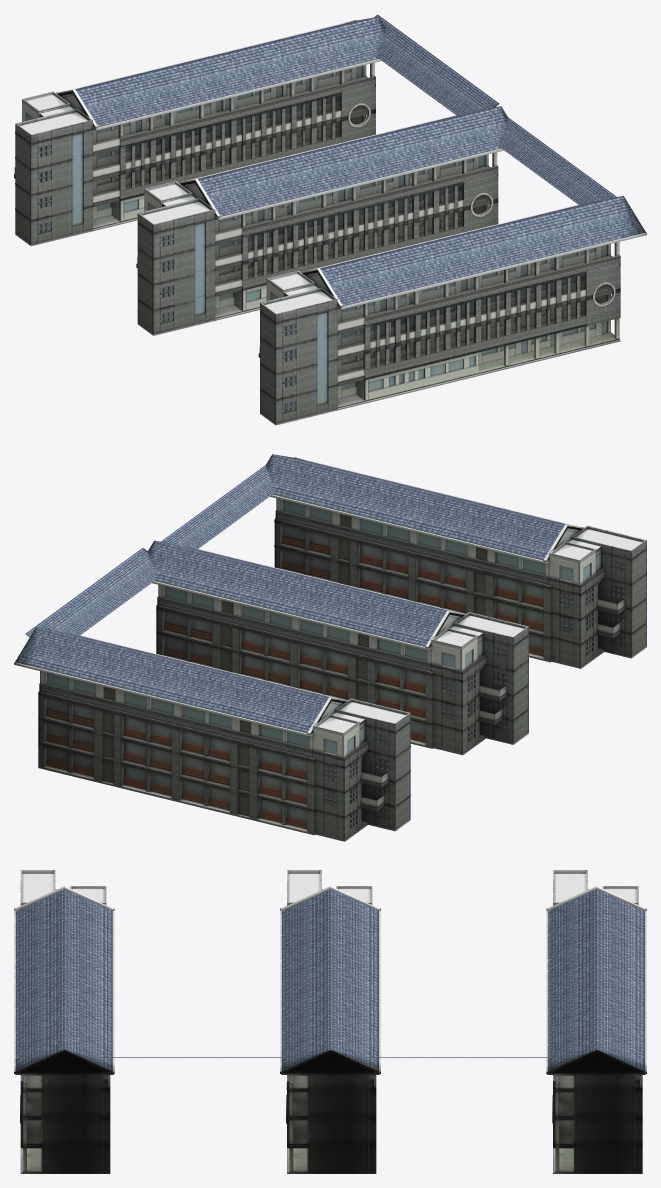
File: teaching_B1T.glb
The picture shows the model from 3 angles, top to bottom: view 1: azimuth 30°, elevation 25°; view 2: azimuth 150°, elevation 25°; view 3: azimuth 270°, elevation 25°; orthographic projection. The views are drawn at different scales.
Parts seen in each view (by area): view 1: 教学楼B_1; view 2: 教学楼B_1; view 3: 教学楼B_1.
Part boxes in pixels (<box>): 教学楼B_1: <box>14,14,646,425</box>; 教学楼B_1: <box>14,454,646,841</box>; 教学楼B_1: <box>14,870,646,1173</box>.
Bounding box in the file's own units: 59.41 × 19.26 × 80.25.
1 material, 1 textured.
